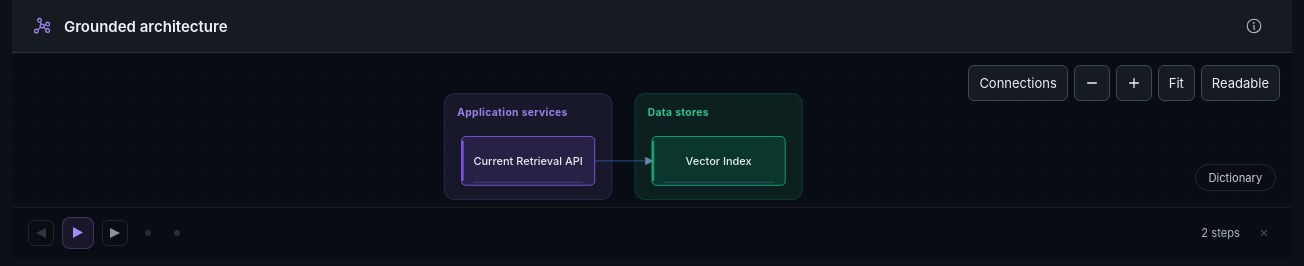
Test: GraphCanvas behavior › dismisses and restores the sequence without discarding the graph
This screenshot has width=1304, height=266.
Step 1. Click the button named "Exit walkthrough" → [1264, 233], box [1252,221,1276,245]
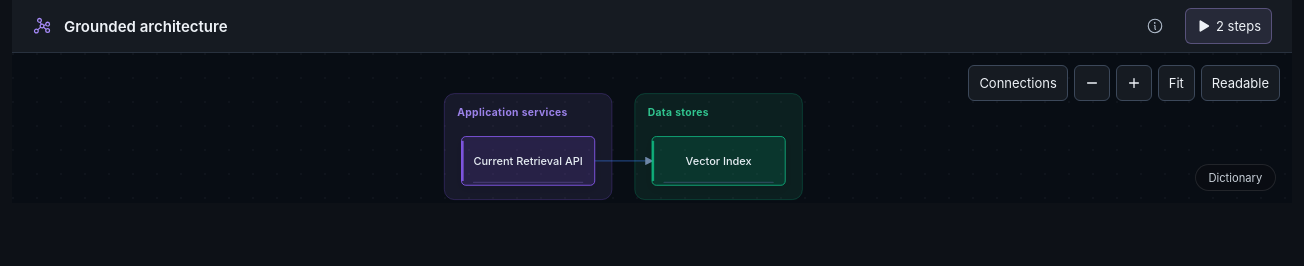
Step 2. Click the button titled "Show walkthrough steps" → [1228, 26], box [1185,8,1272,44]
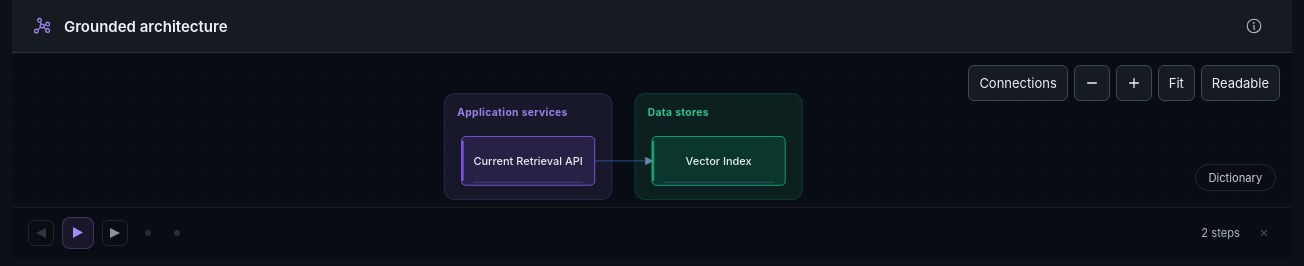
Expected: the button named "Exit walkthrough" is shown, [1252,221,1276,245]
